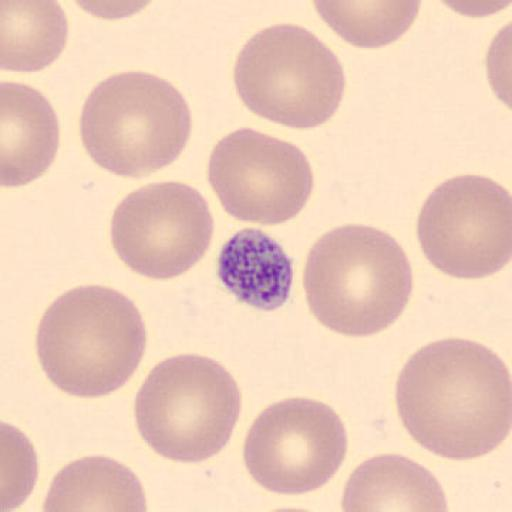Platelet: (216, 226, 296, 313)
RBC: (394, 334, 512, 462), (34, 281, 148, 400), (300, 221, 414, 339), (77, 68, 195, 180), (230, 20, 348, 130), (132, 352, 245, 466), (241, 394, 349, 499), (108, 179, 216, 282), (206, 126, 316, 227), (414, 172, 512, 282), (339, 451, 452, 512), (2, 80, 61, 190), (40, 453, 149, 512), (311, 0, 422, 49), (1, 0, 69, 73), (1, 417, 40, 512), (485, 18, 512, 116), (67, 0, 163, 21), (434, 0, 512, 20), (251, 503, 335, 512)
